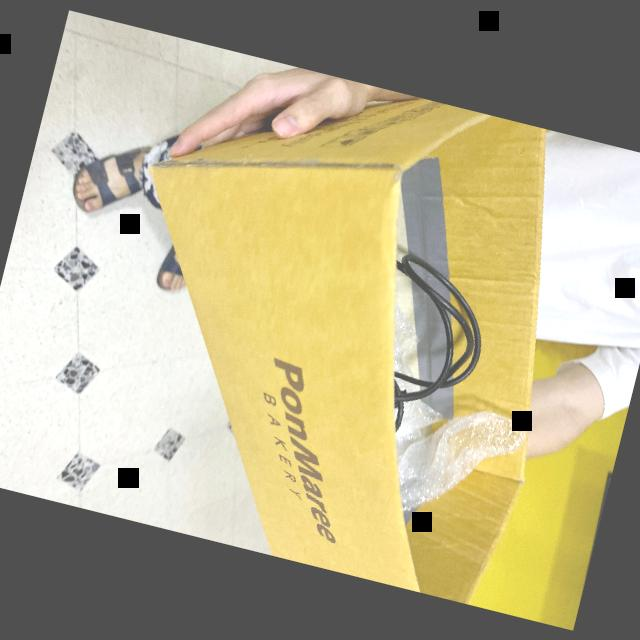cardboard_box: (54, 36, 614, 612)
